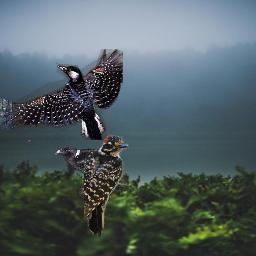Crow: (55, 146, 107, 197)
Woodpecker: (0, 49, 123, 140), (84, 134, 129, 239)
